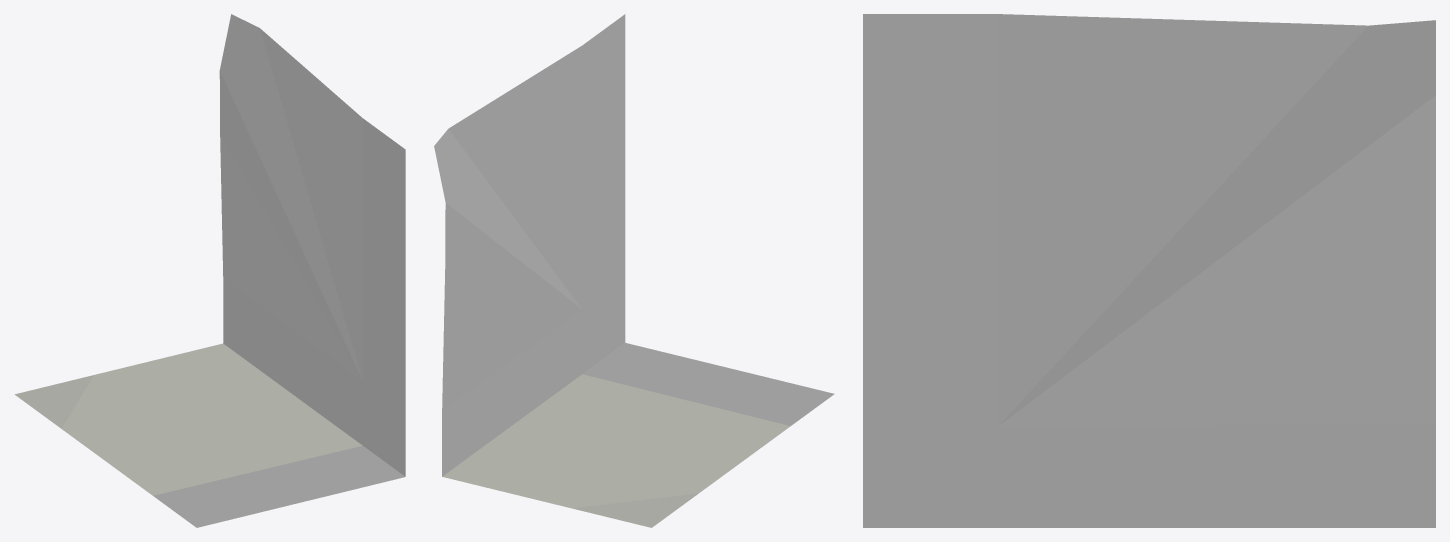
3 views of the same model, side by side, from view 1: azimuth 30°, elevation 25°; view 2: azimuth 150°, elevation 25°; view 3: azimuth 270°, elevation 25° (orthographic). The views are drawn at different scales.
Size of the model in its own units: 1.39 by 1.95 by 1.97.
1 material, 1 textured.
